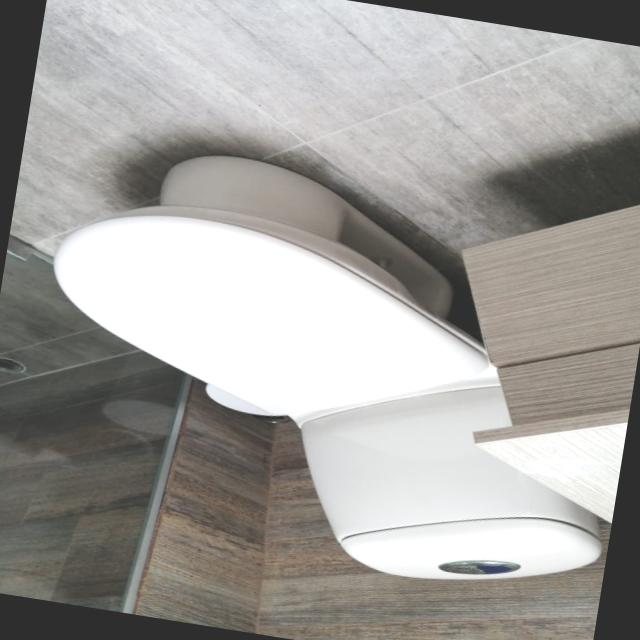toilet: (11, 129, 640, 607)
